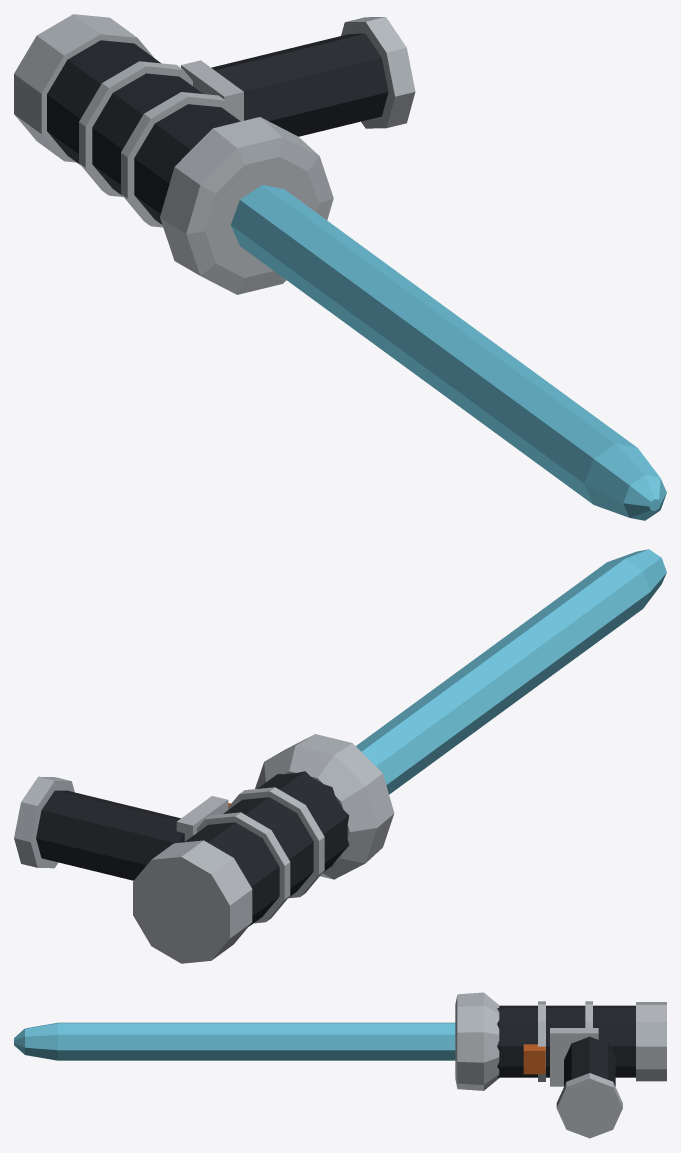
File: saber-guard.glb
3 renders of one model, top to bottom at view 1: azimuth 30°, elevation 25°; view 2: azimuth 150°, elevation 25°; view 3: azimuth 270°, elevation 25°, orthographic. The views are drawn at different scales.
Parts seen in each view (by area): view 1: m; view 2: m; view 3: m.
Part boxes in pixels (bbox=[...]): m: bbox=[14, 14, 666, 520]; m: bbox=[14, 549, 666, 963]; m: bbox=[14, 992, 666, 1138].
Bounding box in the file's own units: 0.0554 × 0.0252 × 0.174.
